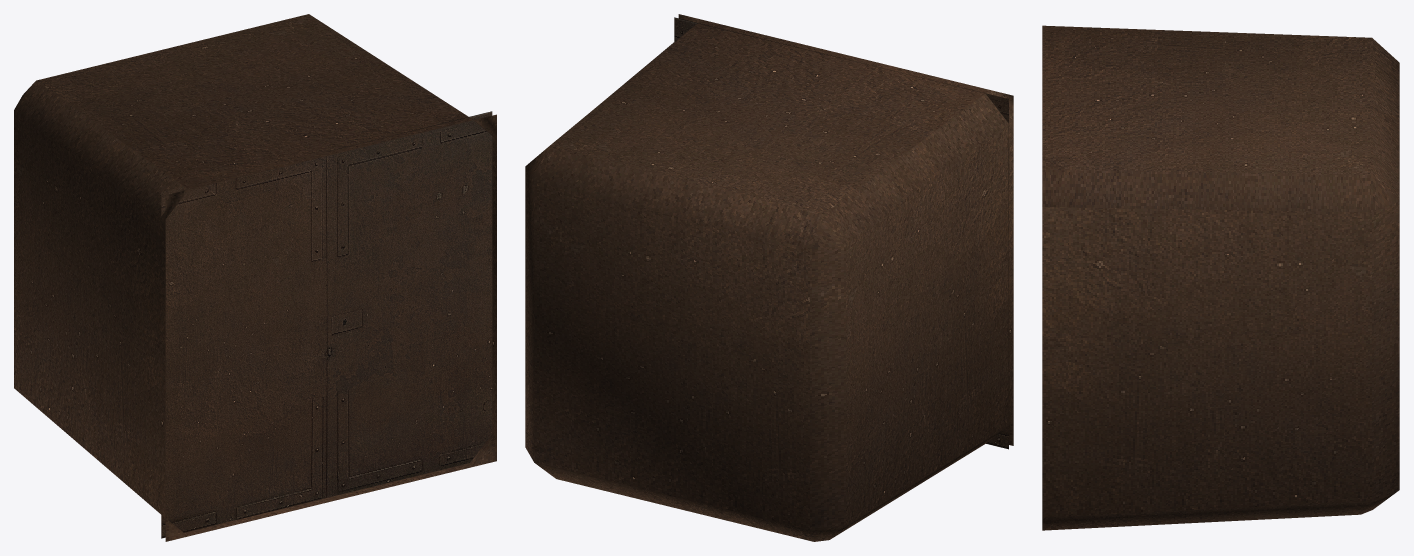
The model's file is dumbwaiter.glb.
3 views of the same model, side by side, from view 1: azimuth 30°, elevation 25°; view 2: azimuth 150°, elevation 25°; view 3: azimuth 270°, elevation 25° (orthographic). The views are drawn at different scales.
Visible parts, largest first — view 1: elevator, Right Door, Left Door; view 2: elevator, Left Door; view 3: elevator.
Boxes of the visible parts, x1,y1,x2,y2 form: elevator: (14, 14, 496, 541); Right Door: (327, 111, 492, 497); Left Door: (161, 151, 326, 538); elevator: (525, 14, 1013, 541); Left Door: (842, 58, 1008, 449); elevator: (1042, 25, 1399, 530).
Size of the model in its own units: 1 by 1 by 0.9.
Materials: 1 (1 with a texture image).
